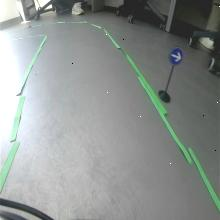right: (169, 46, 184, 65)
